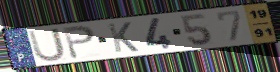4: (144, 16, 177, 51)
5: (179, 12, 215, 47)
7: (213, 9, 243, 43)
K: (106, 21, 140, 54)
P: (61, 24, 98, 61)
U: (27, 27, 68, 63)
